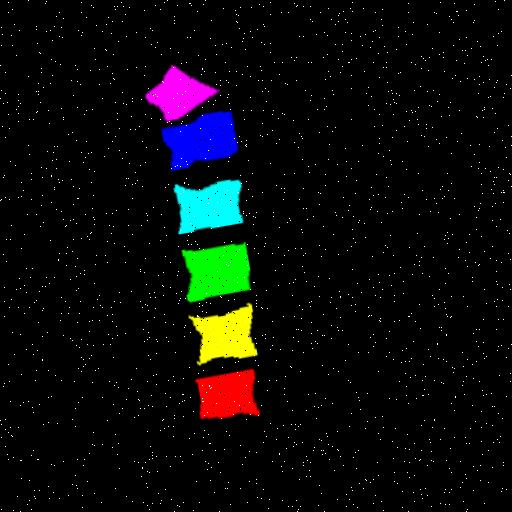L1: (194, 369, 255, 418)
L2: (187, 305, 252, 362)
L3: (179, 240, 246, 302)
L4: (171, 179, 239, 233)
L5: (159, 110, 236, 170)
S1: (143, 67, 216, 121)
